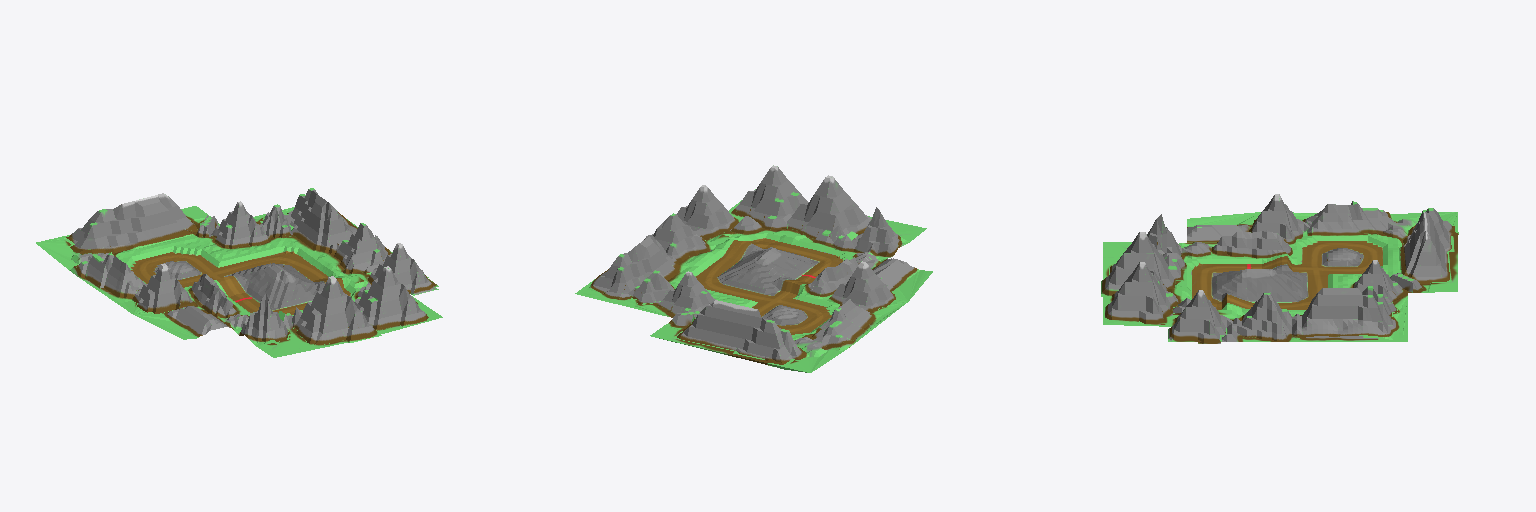
The picture shows the model from 3 angles: view 1: azimuth 30°, elevation 25°; view 2: azimuth 150°, elevation 25°; view 3: azimuth 270°, elevation 25°; orthographic projection.
Bounding box in the file's own units: 11.18 × 2.18 × 13.11.
1 materials, 1 textured.